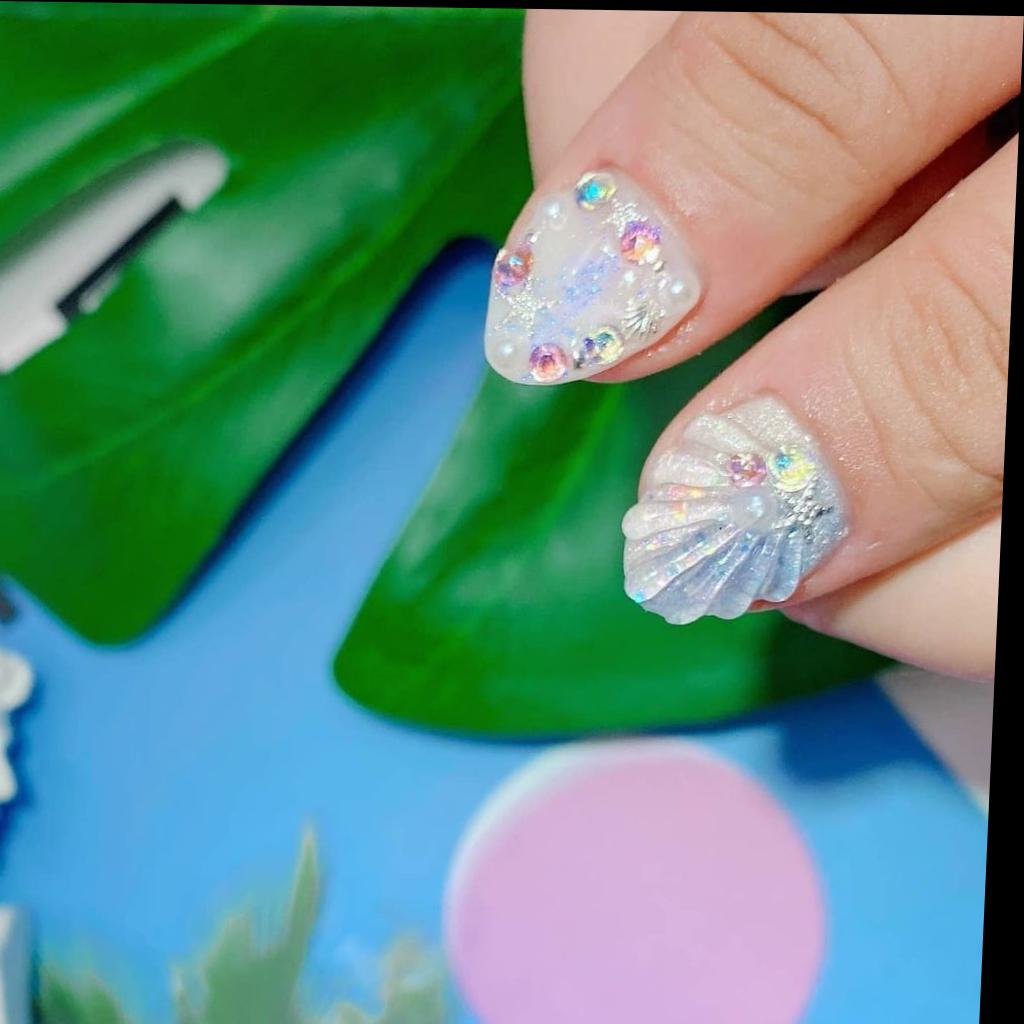nail: (615, 390, 857, 629), (479, 164, 709, 389)
